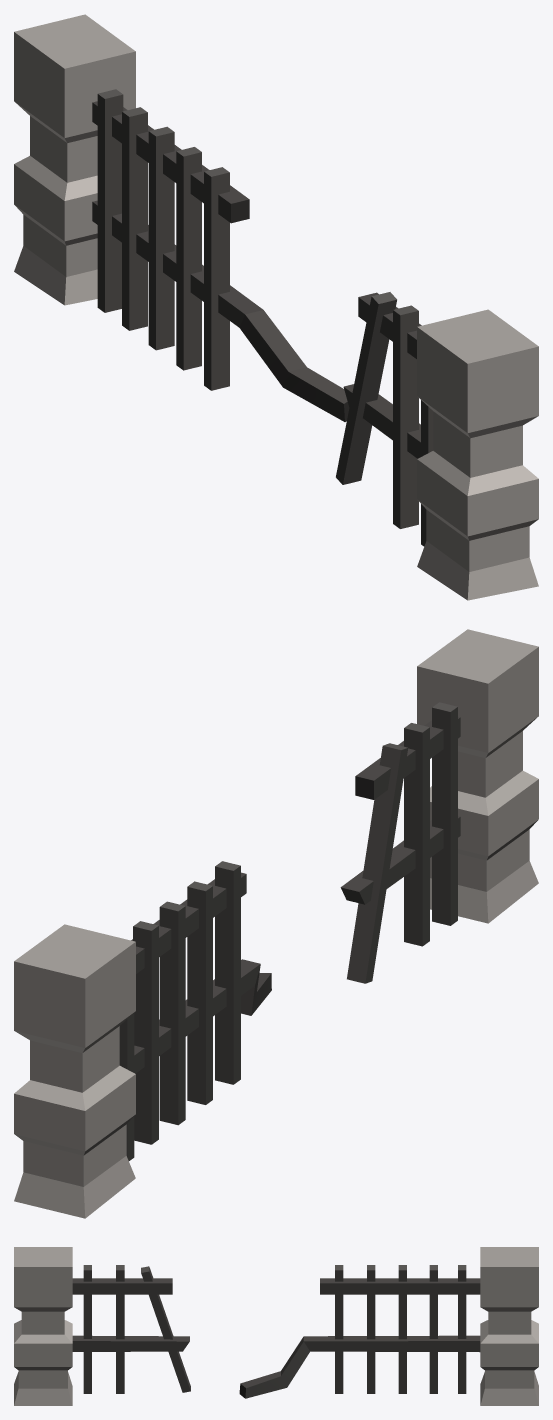
Rendered from Fence_Iron_Damaged_01.fbx.
3 views of the same model, one above another, from view 1: azimuth 30°, elevation 25°; view 2: azimuth 150°, elevation 25°; view 3: azimuth 270°, elevation 25° (orthographic). The views are drawn at different scales.
Visible parts, largest first — view 1: Fence_Iron_Damaged_01; view 2: Fence_Iron_Damaged_01; view 3: Fence_Iron_Damaged_01.
Boxes of the visible parts, <box> form: Fence_Iron_Damaged_01: <box>14,14,538,600</box>; Fence_Iron_Damaged_01: <box>14,629,538,1218</box>; Fence_Iron_Damaged_01: <box>14,1247,538,1405</box>.
Bounding box in the file's own units: 0.6068 × 5.33 × 1.56.
